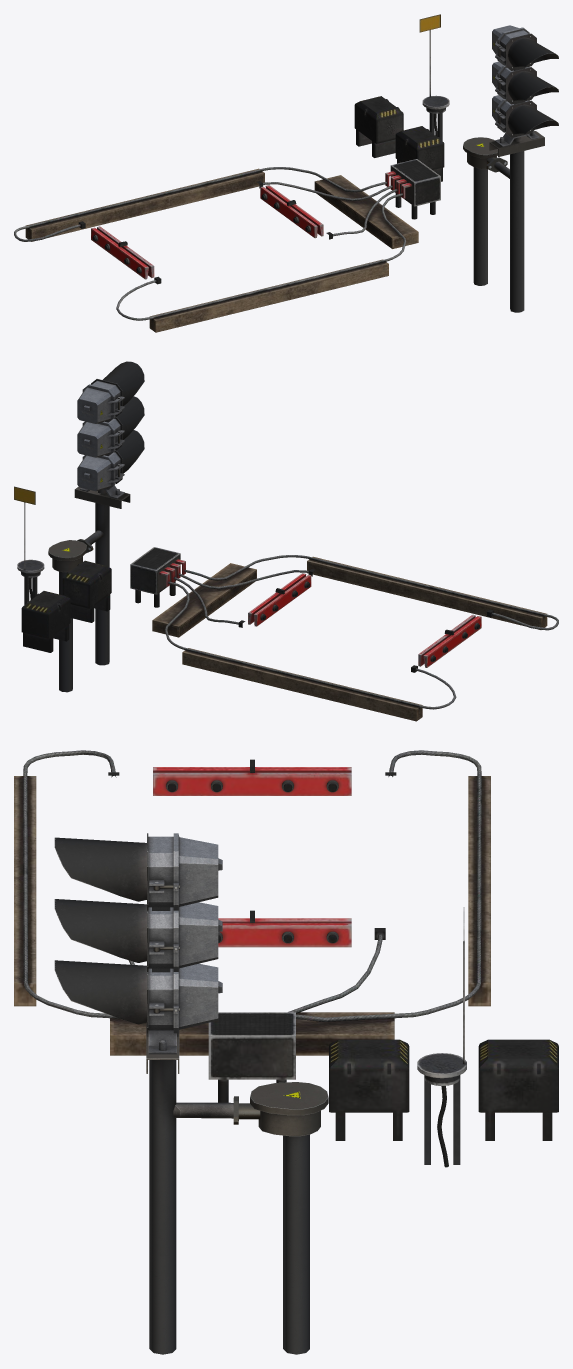
The model's file is RM_sig_P_KM1_3_entr.gltf.
The picture shows the model from 3 angles, top to bottom: view 1: azimuth 30°, elevation 25°; view 2: azimuth 150°, elevation 25°; view 3: azimuth 270°, elevation 25°; orthographic projection. The views are drawn at different scales.
Parts seen in each view (by area): view 1: Изостык, Cylinder001, Box002; view 2: Изостык, Box002, Cylinder001; view 3: Изостык, Box002, Cylinder001.
Part boxes in pixels (bbox=[...]): Изостык: bbox=[14, 14, 449, 332]; Cylinder001: bbox=[463, 131, 544, 312]; Box002: bbox=[492, 25, 558, 146]; Изостык: bbox=[14, 486, 558, 721]; Box002: bbox=[77, 361, 144, 498]; Cylinder001: bbox=[48, 486, 130, 692]; Изостык: bbox=[14, 750, 558, 1167]; Box002: bbox=[54, 833, 222, 1054]; Cylinder001: bbox=[146, 1022, 328, 1354].
Bounding box in the file's own units: 4.21 × 2.5 × 2.43.
Materials: 2 (2 with a texture image).
